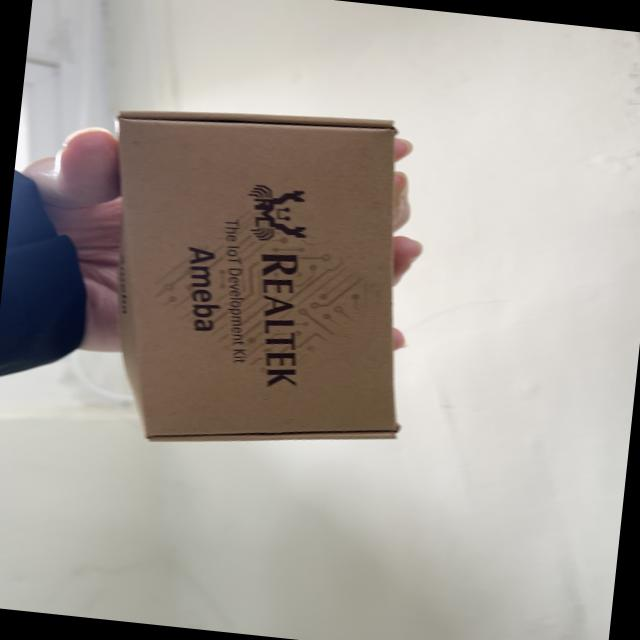box: (64, 88, 450, 485)
